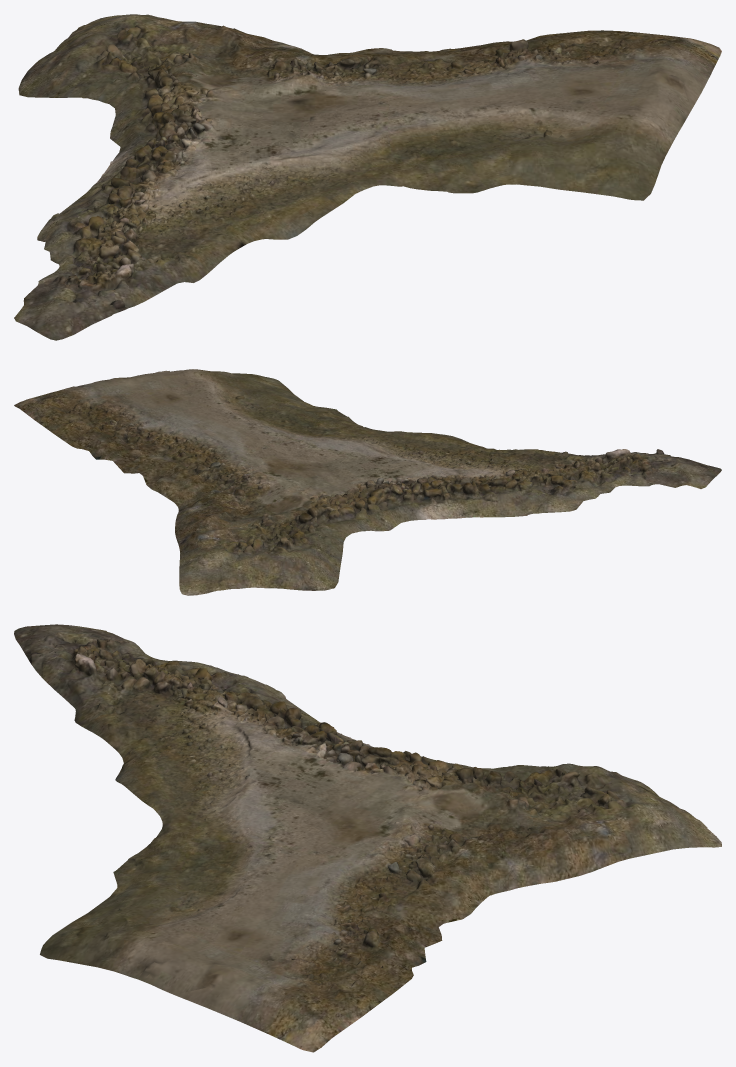
The model's file is coast-rock.glb.
3 views of the same model, one above another, from view 1: azimuth 30°, elevation 25°; view 2: azimuth 150°, elevation 25°; view 3: azimuth 270°, elevation 25° (orthographic). The views are drawn at different scales.
Visible parts, largest first — view 1: coast_rocks_01; view 2: coast_rocks_01; view 3: coast_rocks_01.
Part boxes in pixels (box(x1,y1,x2,y2)): coast_rocks_01: box(14, 14, 721, 340); coast_rocks_01: box(14, 369, 721, 595); coast_rocks_01: box(14, 624, 721, 1052).
Bounding box in the file's own units: 59.51 × 3.29 × 42.51.
Materials: 1 (1 with a texture image).
